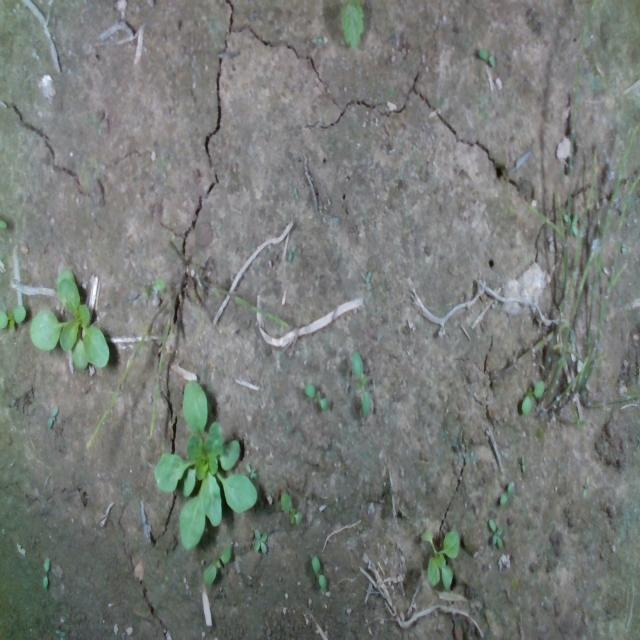weed: (201, 543, 233, 586), (279, 491, 303, 525), (311, 554, 327, 589), (487, 518, 503, 548), (499, 478, 514, 507), (253, 527, 267, 555), (41, 555, 50, 589)
